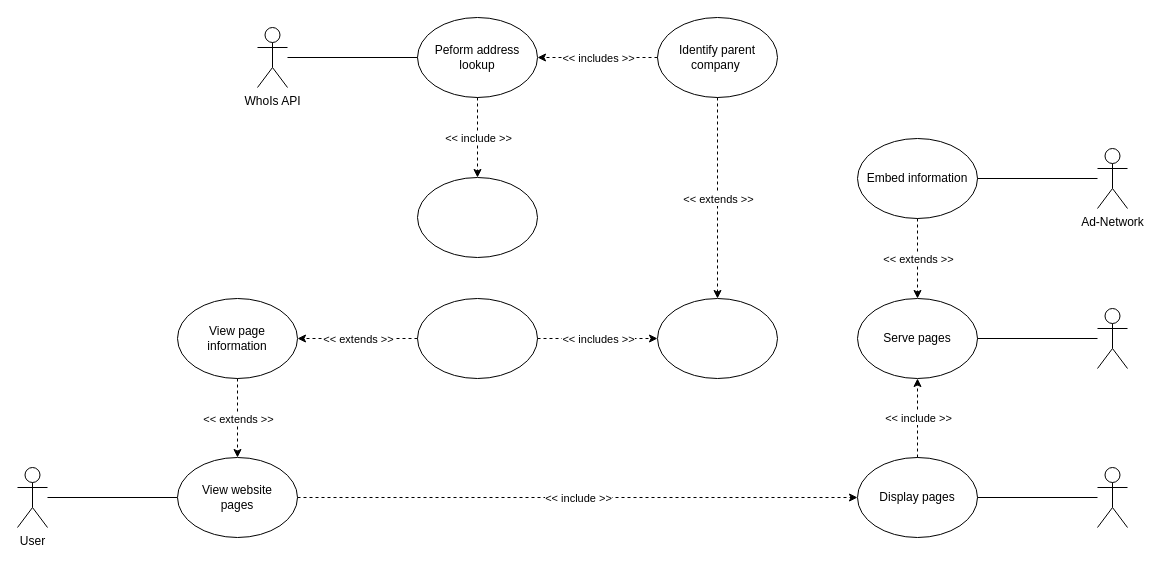
Image size: 1161x566. Some labels were removed from this diagram. The box of each missing label's shape, as (x1, y1, x2, y2) in pixels:
Analyse 3rd Party Requests: (656, 298, 778, 378)
Browser: (1096, 466, 1128, 528)
Publishers: (1096, 308, 1128, 368)
Record 3rd Party Requests: (416, 298, 538, 378)
Record address lookup: (416, 176, 538, 258)
